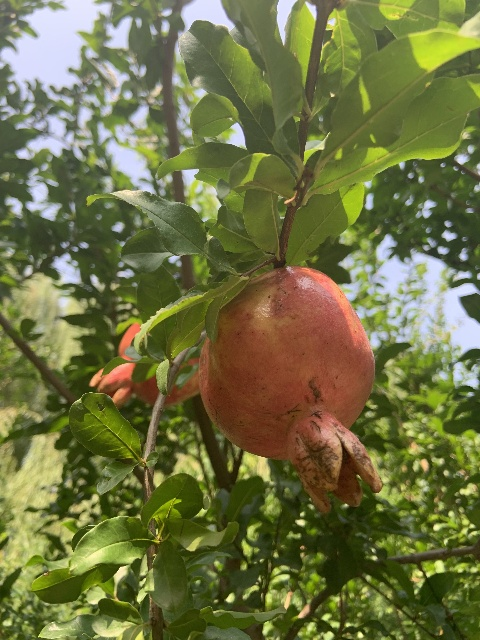ripe: (199, 265, 383, 511), (89, 323, 199, 408)
